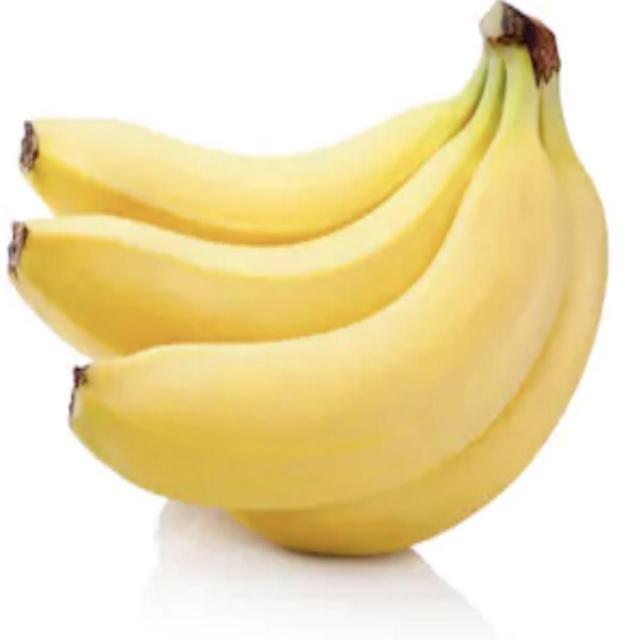banana: (42, 51, 570, 560)
